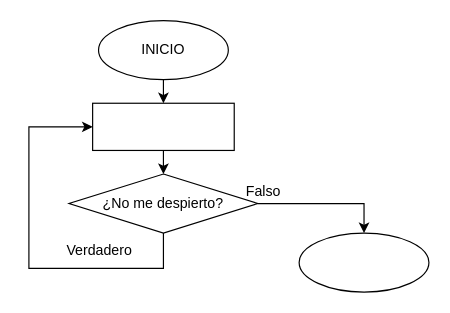
This 450x313 diagram has some shape labels left out. The shapes that lost their labels are listed below. From the top down, each one's centre as x and y in pixels, then its label:
At [162,126]: "Suena la alarma".
At [363,262]: "FIN".
